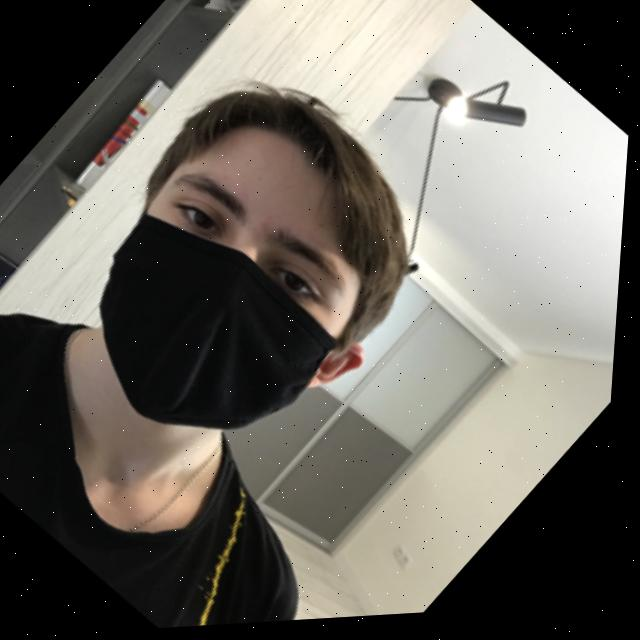Mask: (34, 175, 371, 503)
